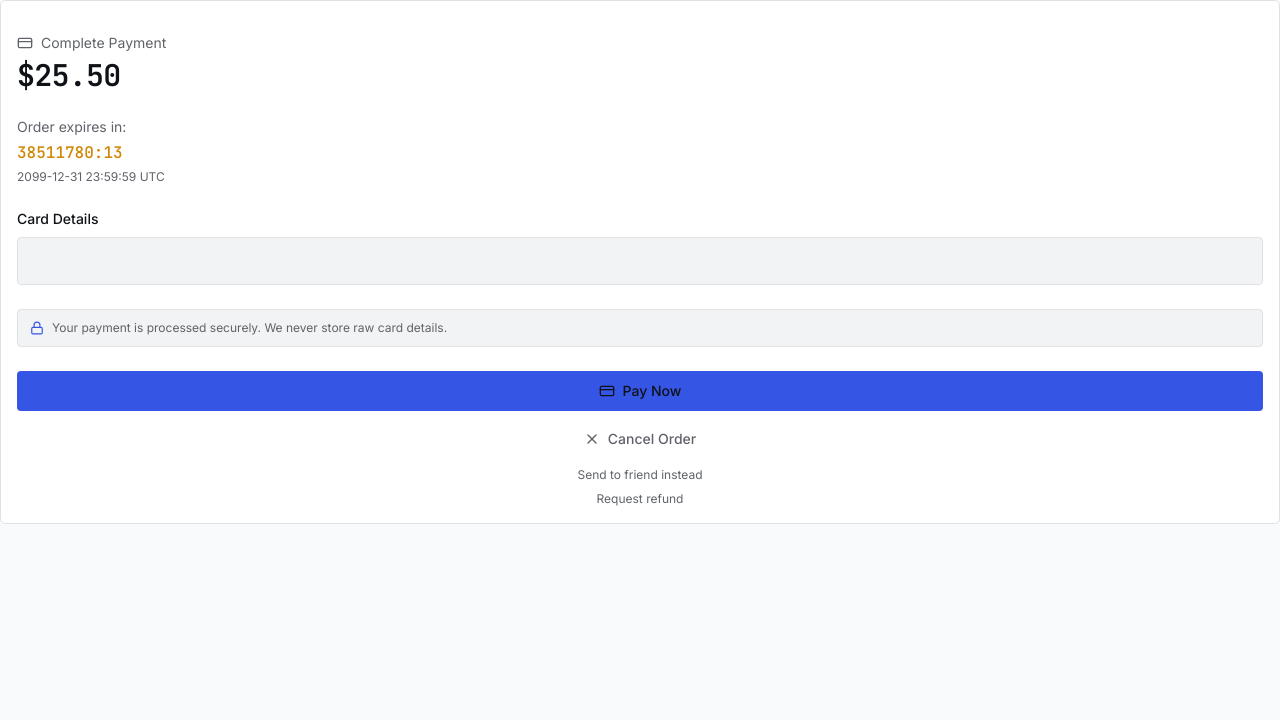
Test: OrderPaymentForm › displays payment error when submitPayment action returns error
Step 1. Click the button "Pay Now" → [640, 391], box x1=17 y1=371 x2=1263 y2=411
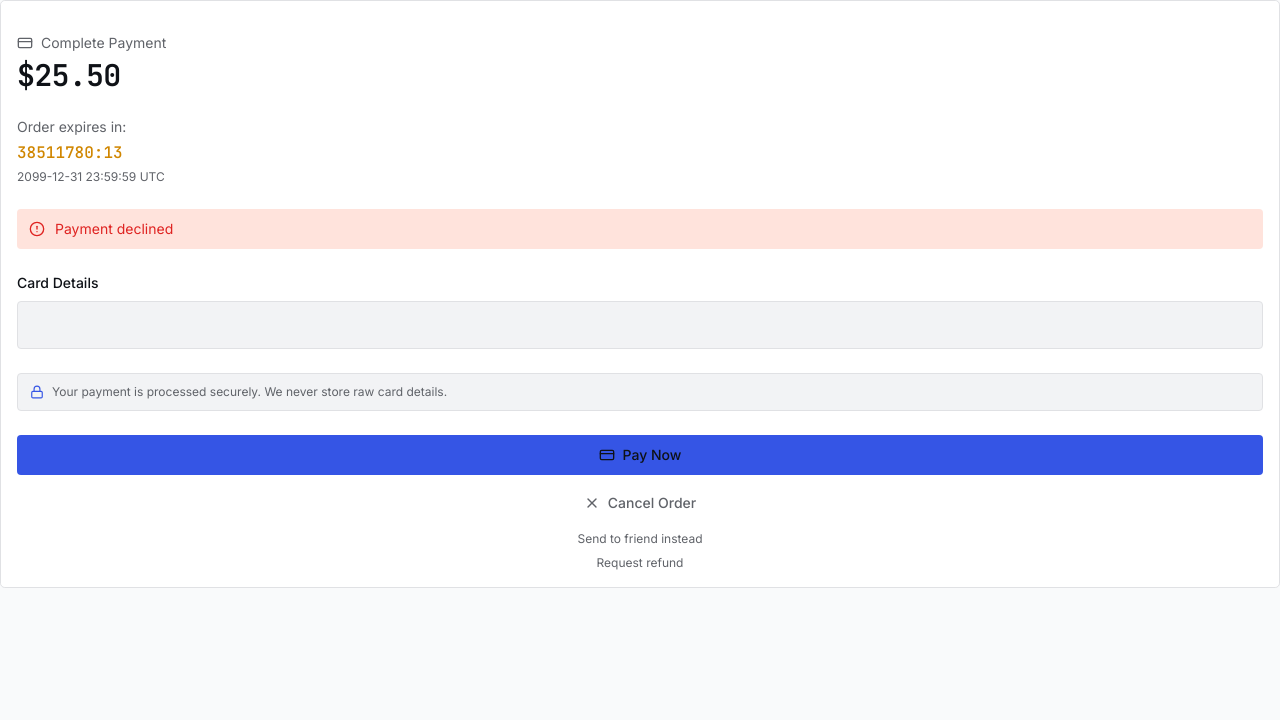
Expected: the button "Pay Now" is enabled, x1=17 y1=435 x2=1263 y2=475
Now the text "Payment declined" is shown, box x1=55 y1=219 x2=173 y2=239
